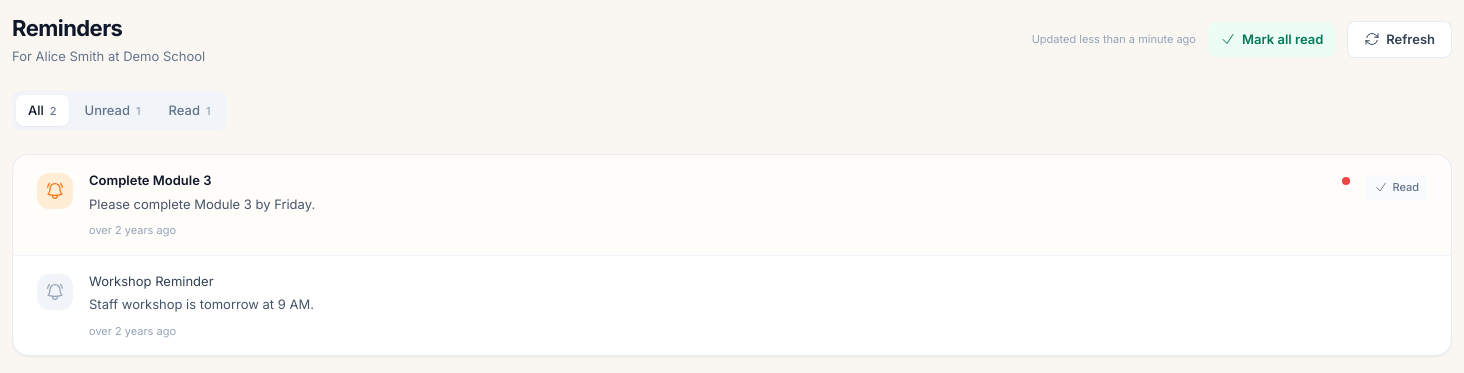
it: RemindersPage › UNREAD filter shows only unread reminders
The image size is (1464, 373).
Expected: the text "Complete Module 3" is shown, [89,171,212,190]
Click the button "Unread1" at point(113, 110), box [73,94,153,126]
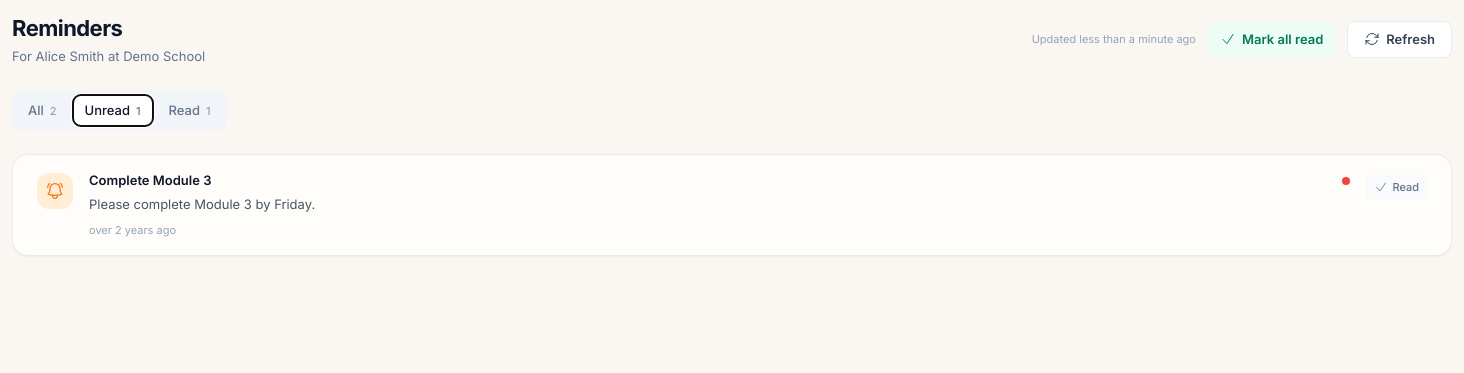
Expected: the text "Complete Module 3" is shown, [89,171,212,190]
Result: the button "Workshop Reminder" is gone
